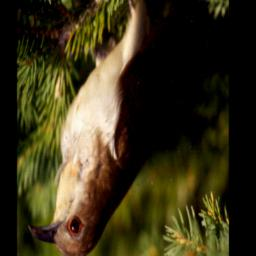Cuckoo: (28, 0, 220, 256)
